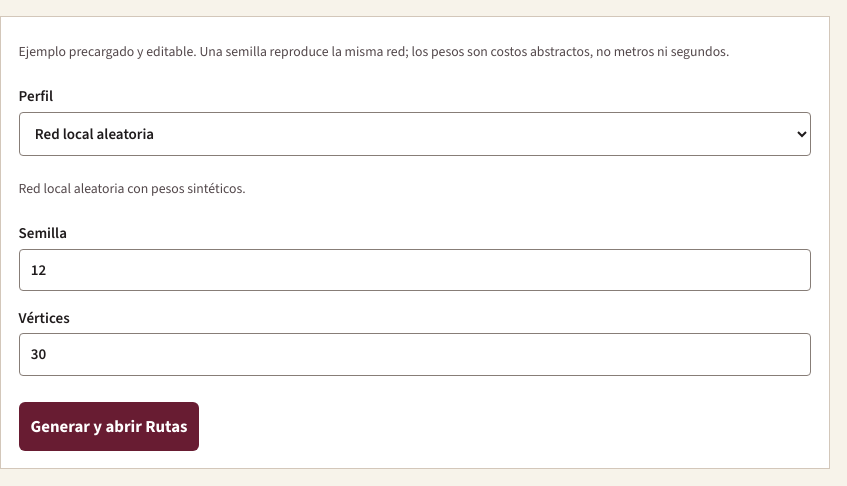
Test: Generador editable › cambia a cuadrícula sin modificar la red activa hasta aplicar
Later steps or results of the test are not shown.
Select "Cuadrícula" in the dropdown labelled "Perfil" at {"x": 415, "y": 134}, box [19,112,811,156]
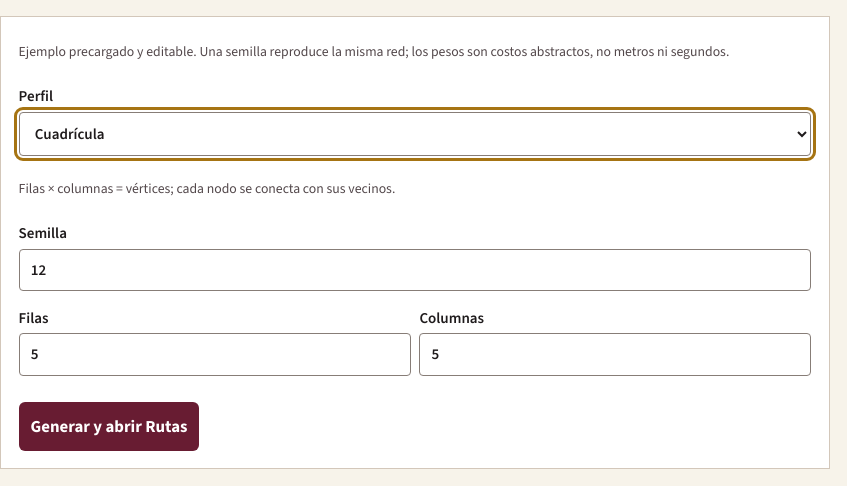
Expected: the number field labelled "Filas" holds "5", [19,334,411,376]
